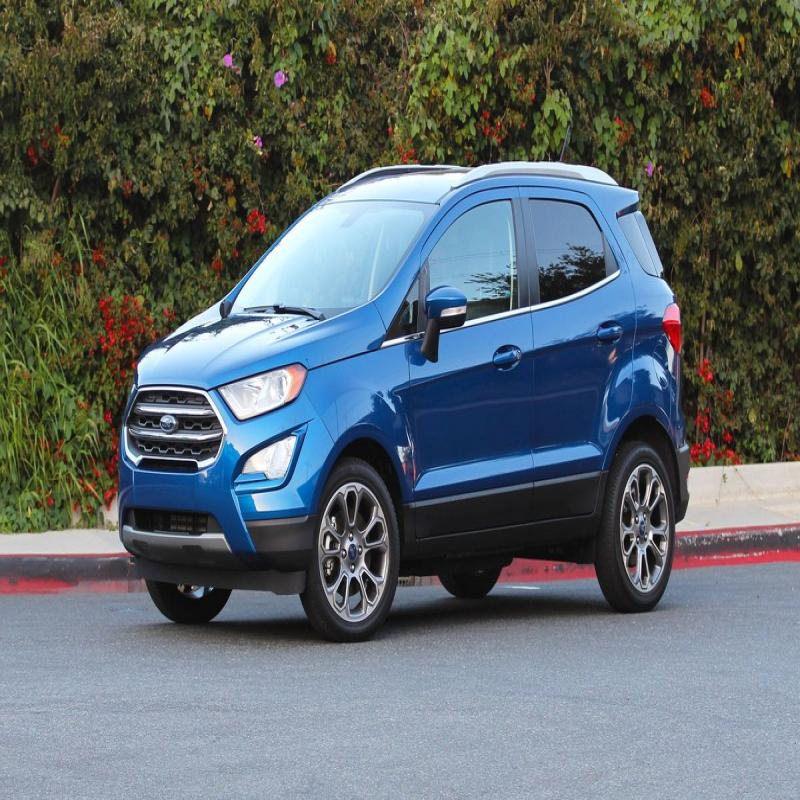car: (106, 157, 703, 648)
